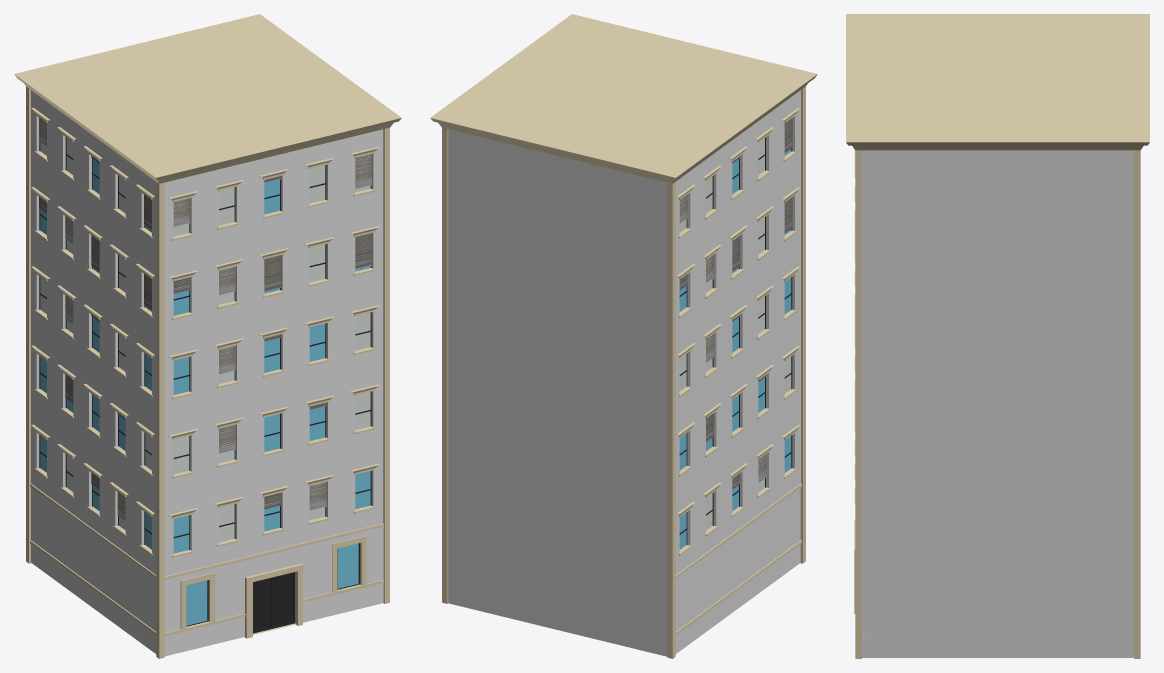
File: Bloc_01A.fbx
The picture shows the model from 3 angles, left to right: view 1: azimuth 30°, elevation 25°; view 2: azimuth 150°, elevation 25°; view 3: azimuth 270°, elevation 25°; orthographic projection. The views are drawn at different scales.
Visible parts, largest first — view 1: Bloc_01A; view 2: Bloc_01A; view 3: Bloc_01A.
Part boxes in pixels (x1,y1,x2,y2): Bloc_01A: [14, 14, 401, 658]; Bloc_01A: [430, 14, 817, 658]; Bloc_01A: [846, 14, 1149, 658].
Size of the model in its own units: 974 by 1843 by 974.
